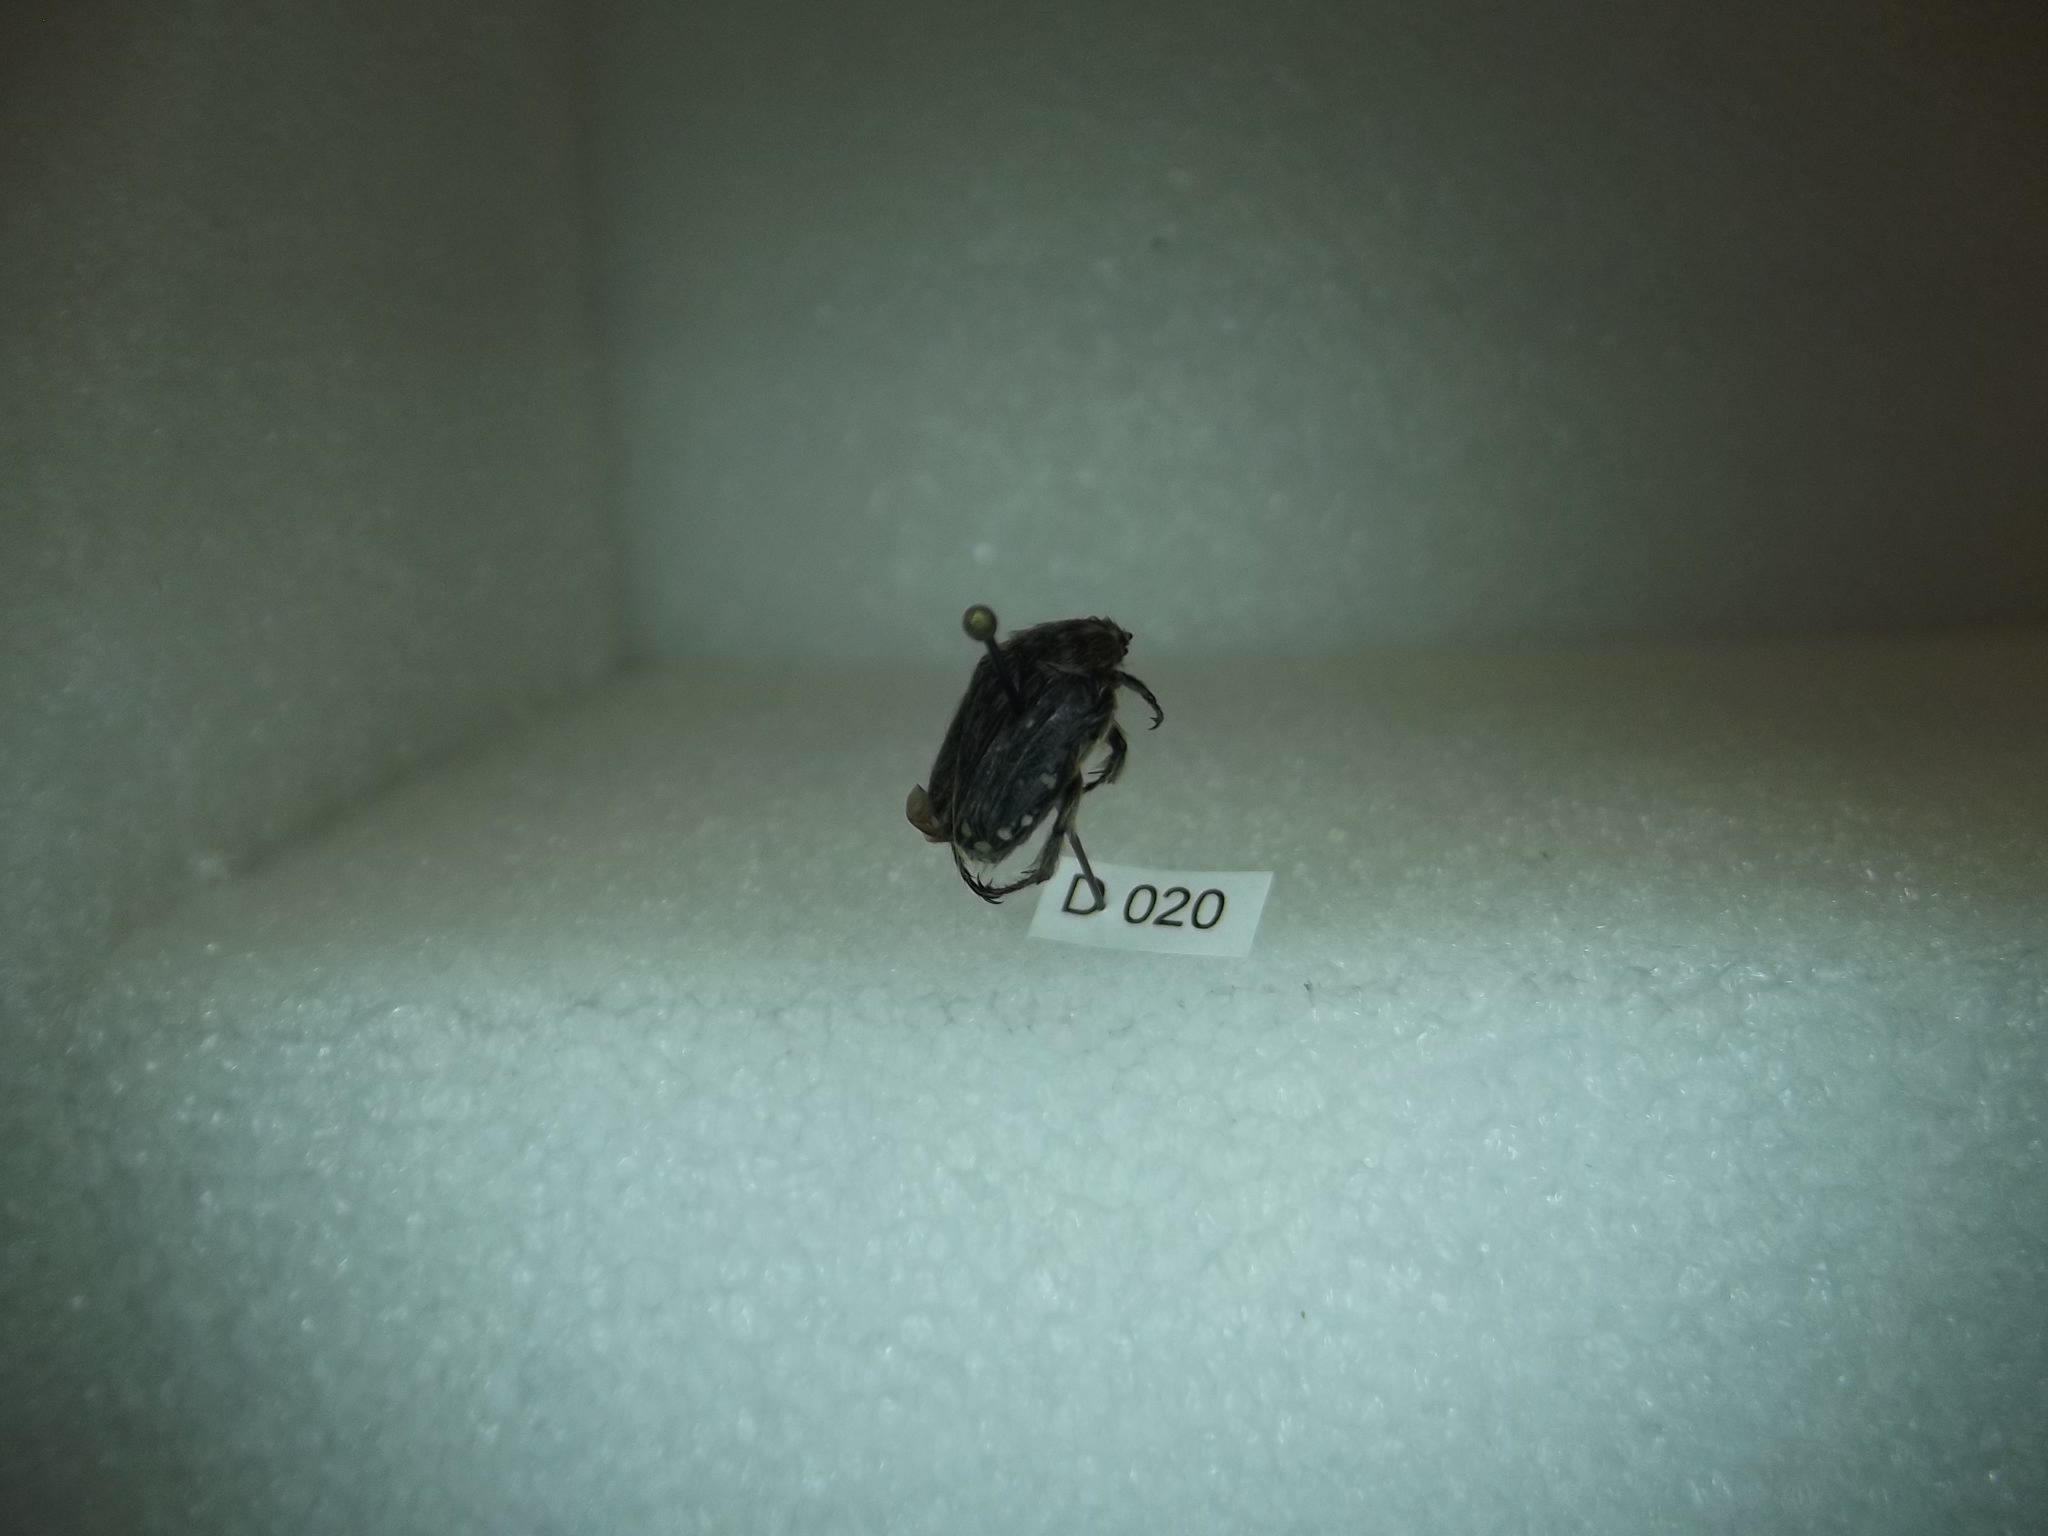Tropinota_senicula: (897, 591, 1177, 920)
